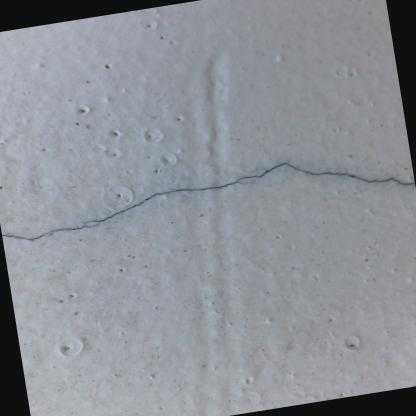crack: (1, 157, 415, 243)
